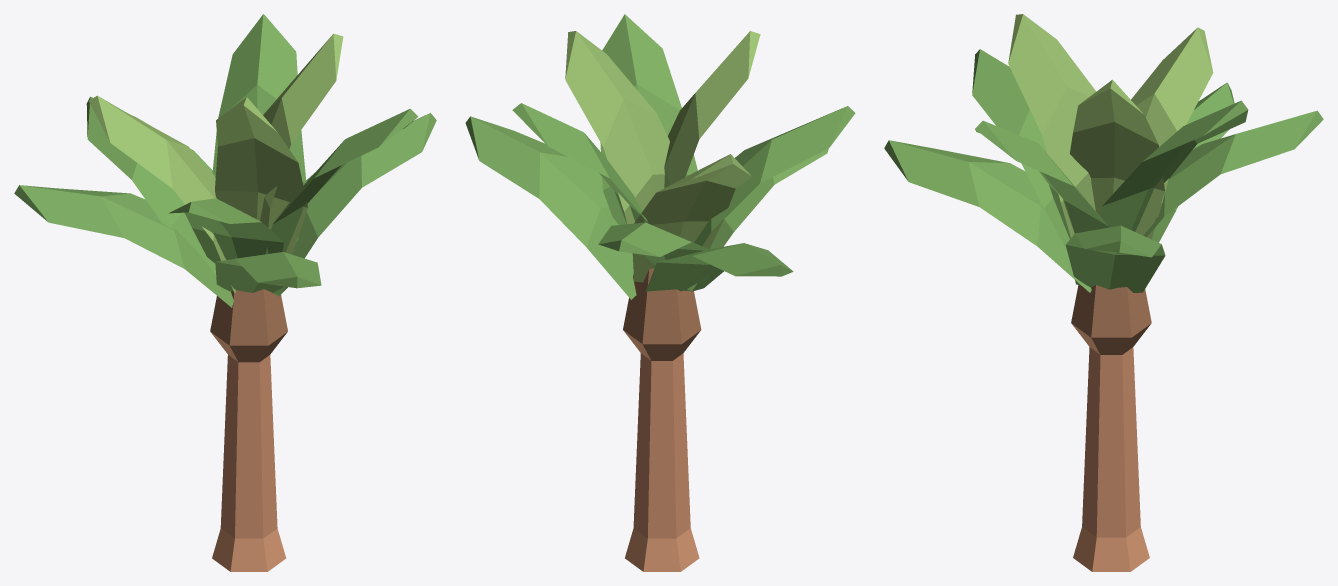
The model's file is palm3.fbx.
3 views of the same model, side by side, from view 1: azimuth 30°, elevation 25°; view 2: azimuth 150°, elevation 25°; view 3: azimuth 270°, elevation 25° (orthographic). The views are drawn at different scales.
Visible parts, largest first — view 1: palm3; view 2: palm3; view 3: palm3.
Part boxes in pixels (x1,y1,x2,y2): palm3: [14, 14, 436, 571]; palm3: [465, 14, 855, 571]; palm3: [884, 14, 1323, 571].
Size of the model in its own units: 3.13 by 4.09 by 3.12.
